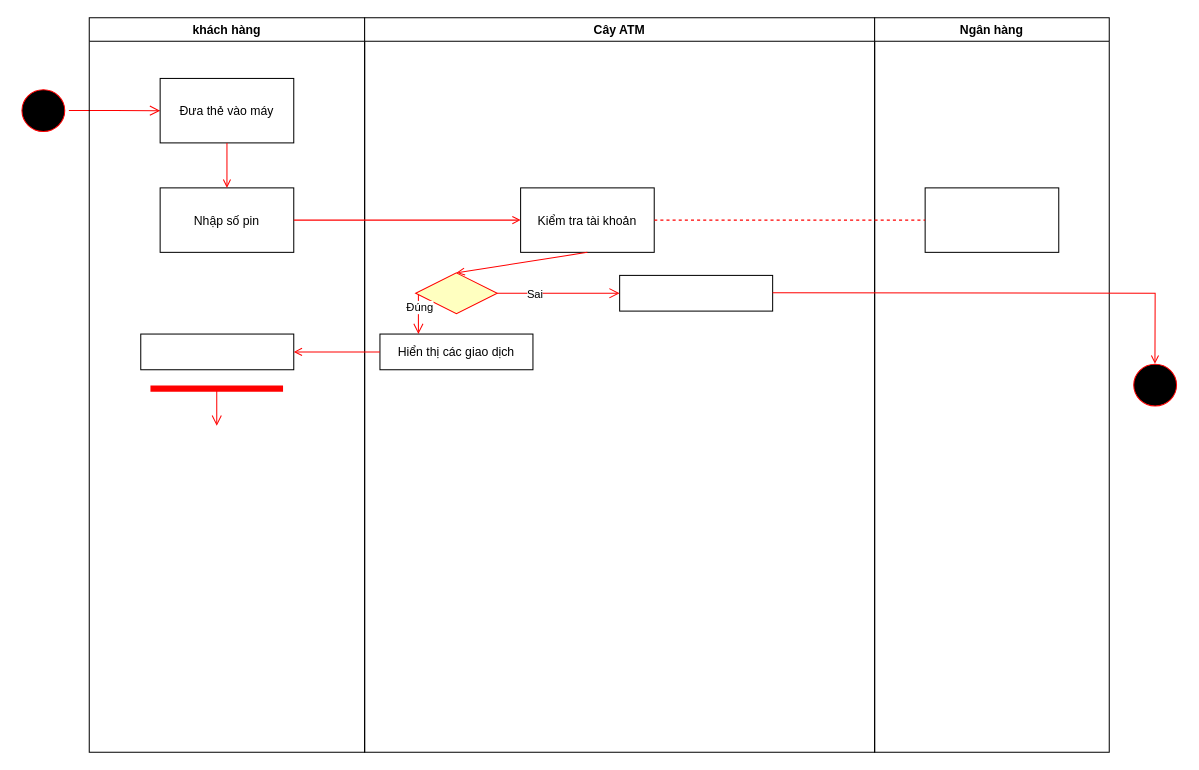
Image size: 1199x770. Some labels were removed from this diagram. Here are the shapes that lost their labels. From the top down, the centre of each, then its label:
At (x=991, y=219): "CSDL Tài khoản KH".
At (x=696, y=292): "Thông báo xác thực sai".
At (x=217, y=351): "Chọn giao dịch".
